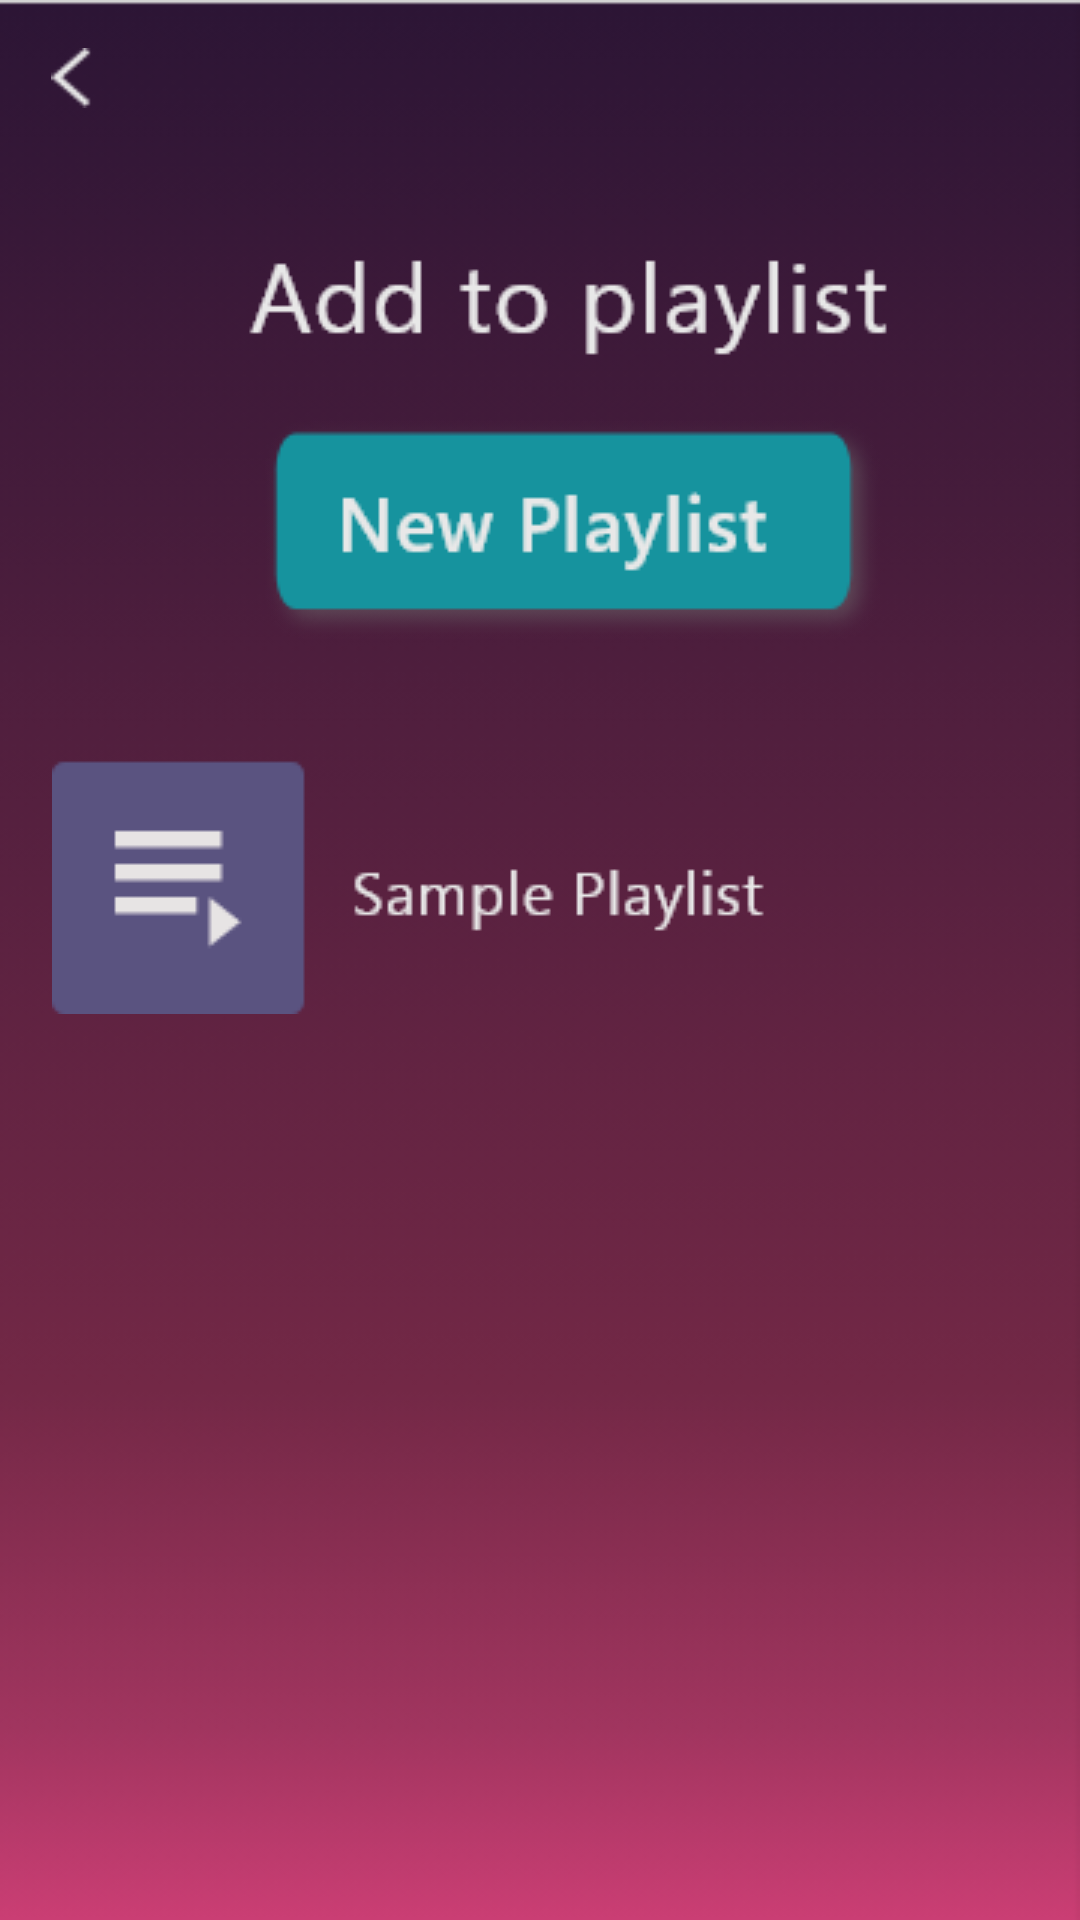

Icon bounding boxes for this 1080×1920 phone screenshot, format (x1, y1, x2, y2):
back: (51, 48, 91, 108)
